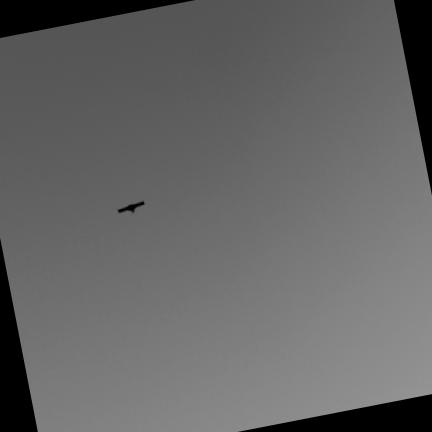Shahed: (117, 199, 145, 214)
